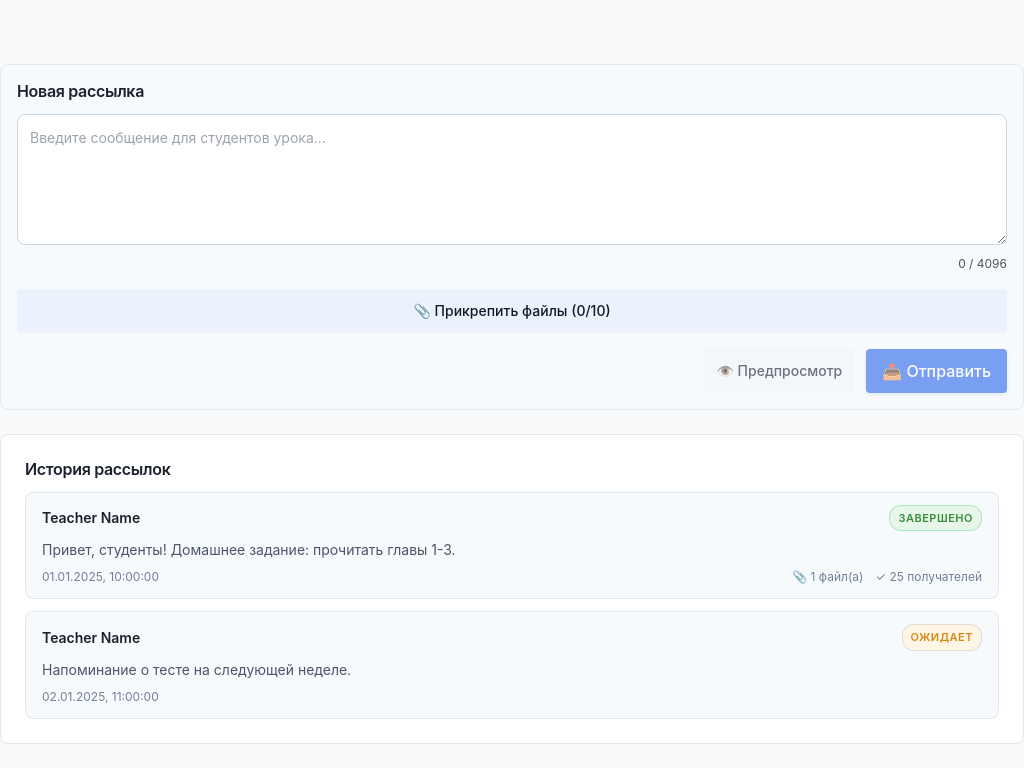
Test: BroadcastSection › Preview › should show lesson info in preview
Type "Test message" into the text box with placeholder "Введите сообщение для студентов урока...". click: (512, 179)
box: [17, 114, 1007, 245]
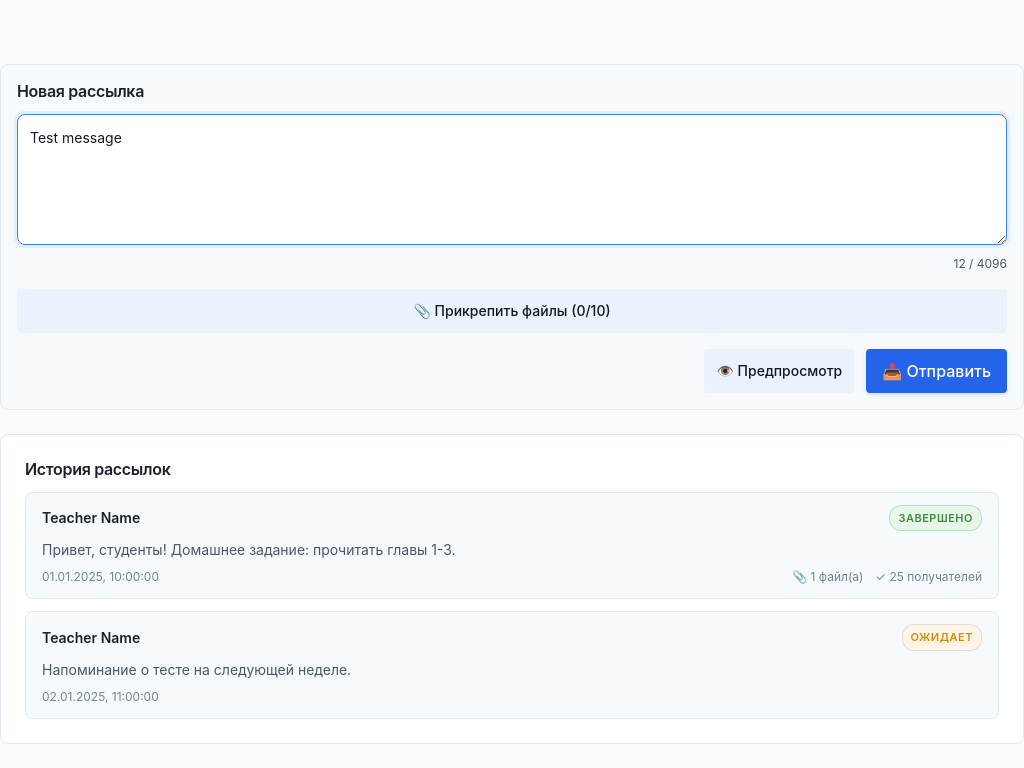
Click the button "👁️ Предпросмотр". click: (779, 371)
box: [704, 349, 854, 393]
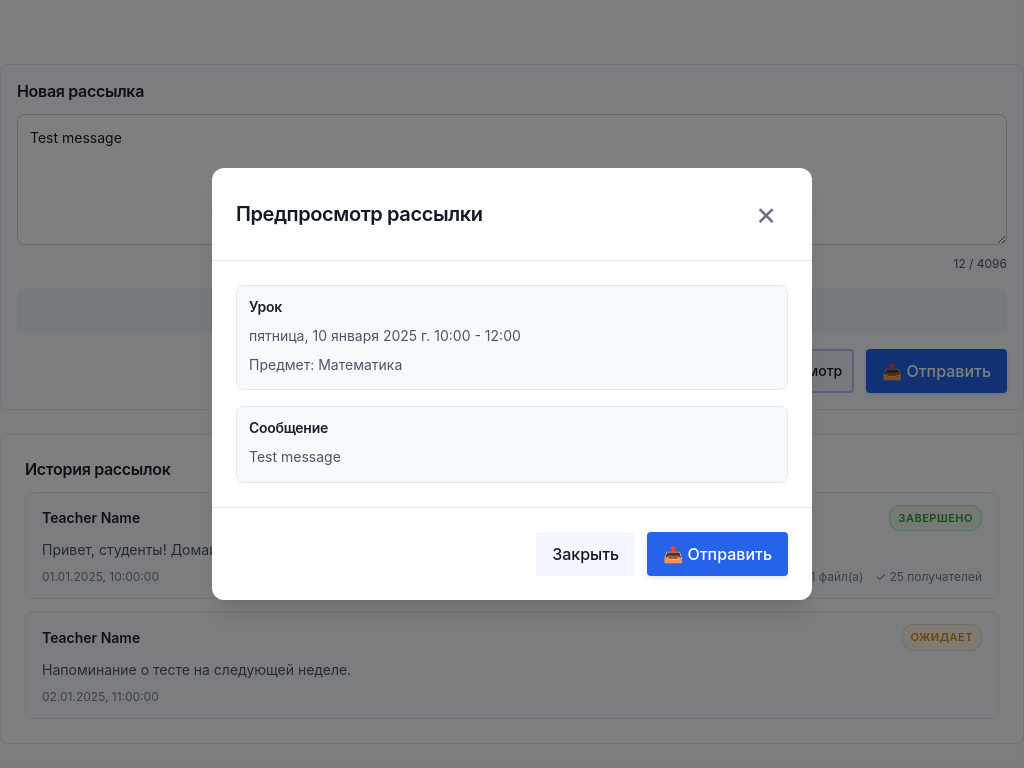
Now the text "Предмет: Математика" is shown, box [249, 356, 402, 373]
